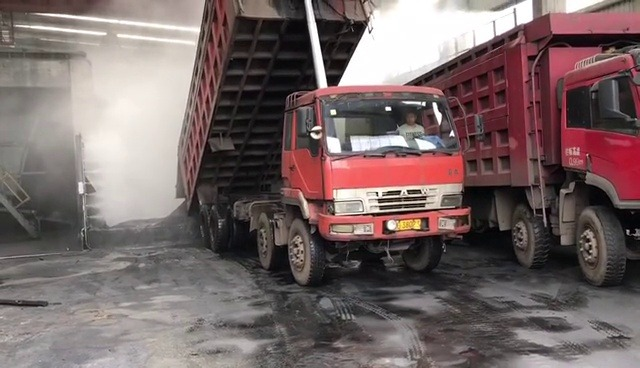dust: (17, 9, 187, 216), (338, 0, 589, 83)
truck: (174, 0, 456, 280), (462, 0, 640, 275)
